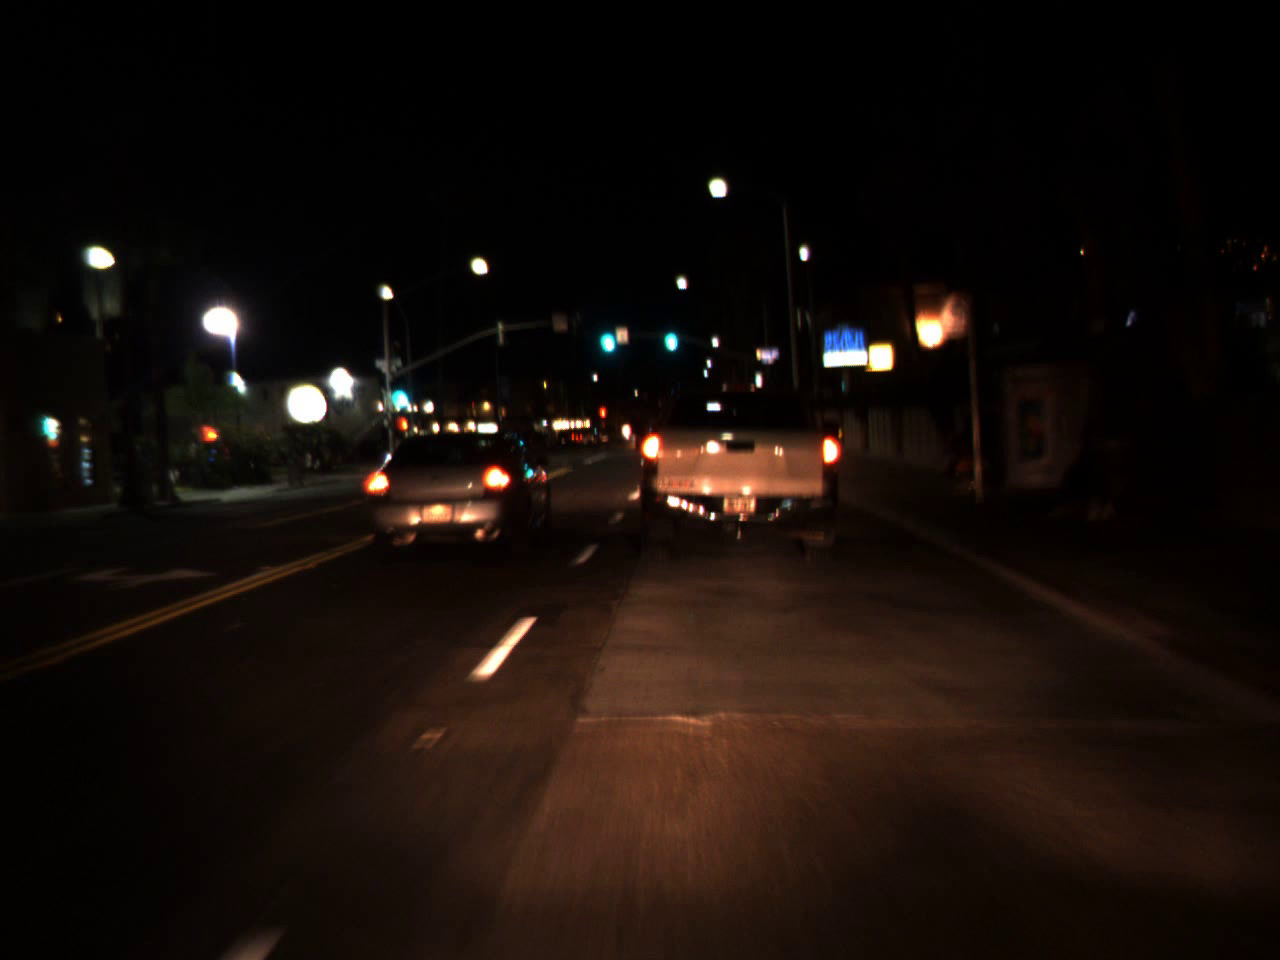go: (594, 308, 619, 359), (384, 371, 411, 410), (660, 313, 679, 355)
